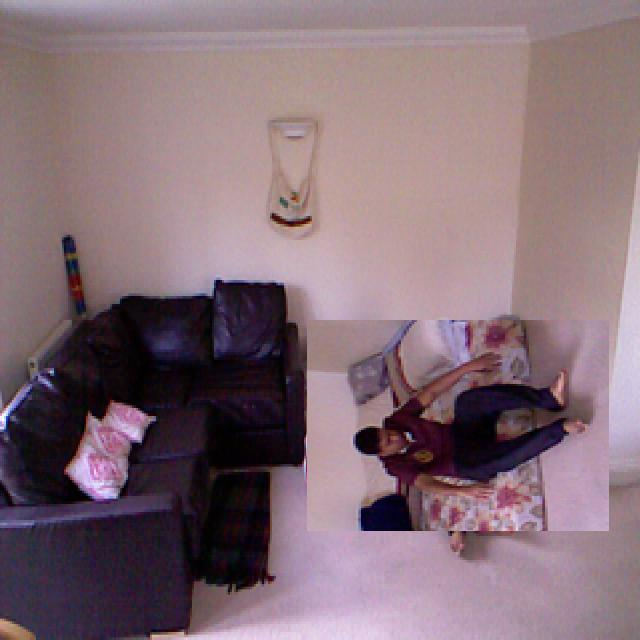NotFall: (324, 339, 600, 510)
